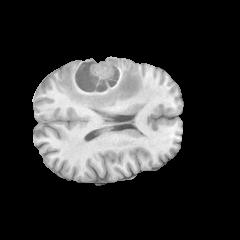glioma: (57, 58, 142, 111)
